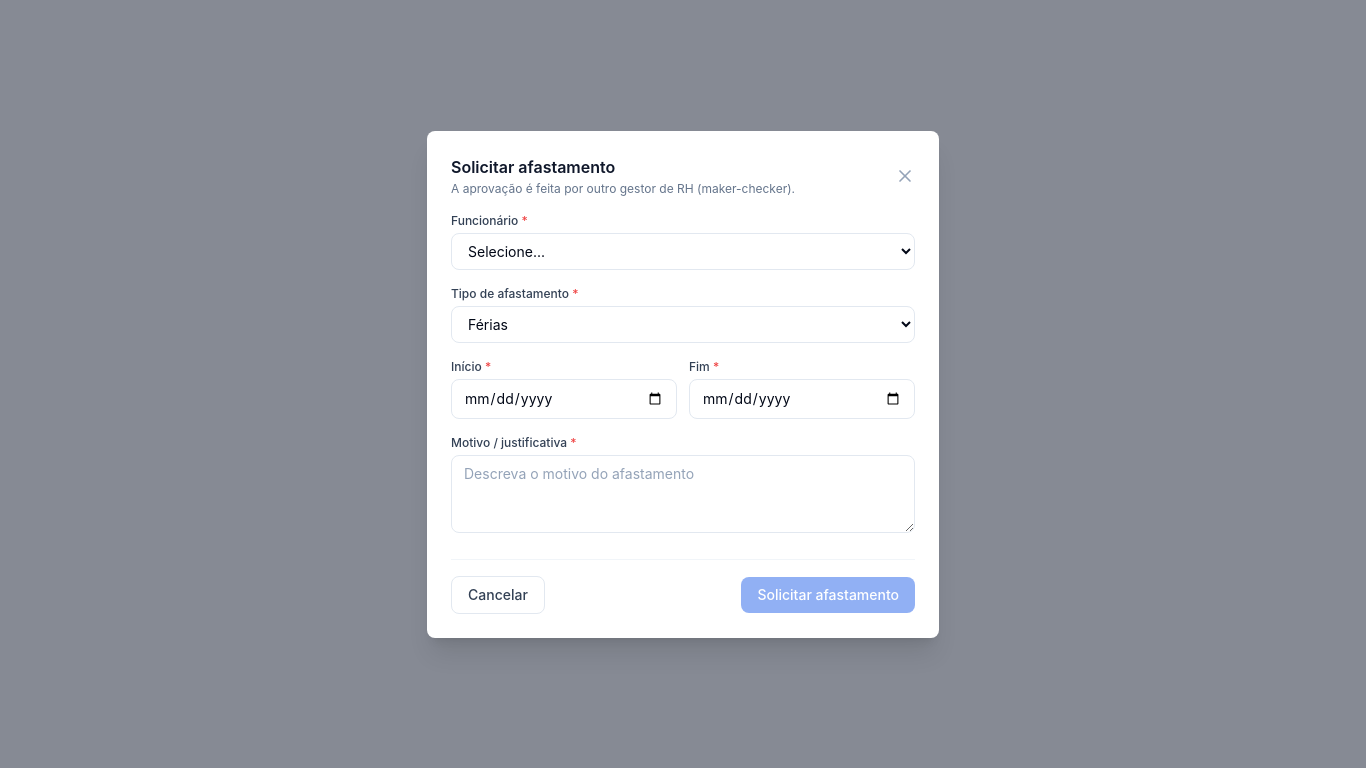
Test: LeaveRequestForm › surfaces a server validation error
The image size is (1366, 768).
Select "Bruno Lima" in the dropdown labelled "Funcionário *". click: [683, 251]
box: [451,232,915,270]
Select "Afastamento médico" in the dropdown labelled "Tipo de afastamento *". click: [683, 324]
box: [451,306,915,342]
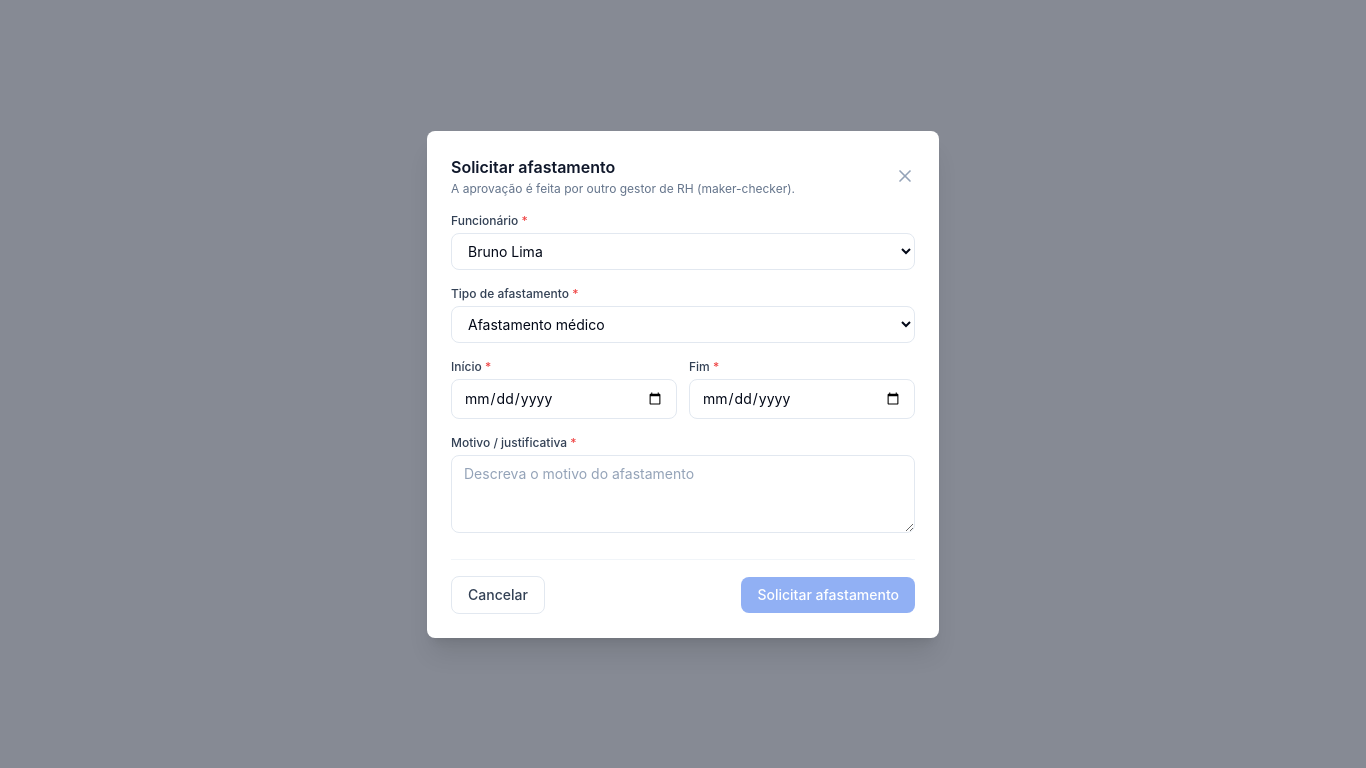
Type "2026-09-01" into the date field labelled "Início *". click: [564, 398]
box: [451,378,677,418]
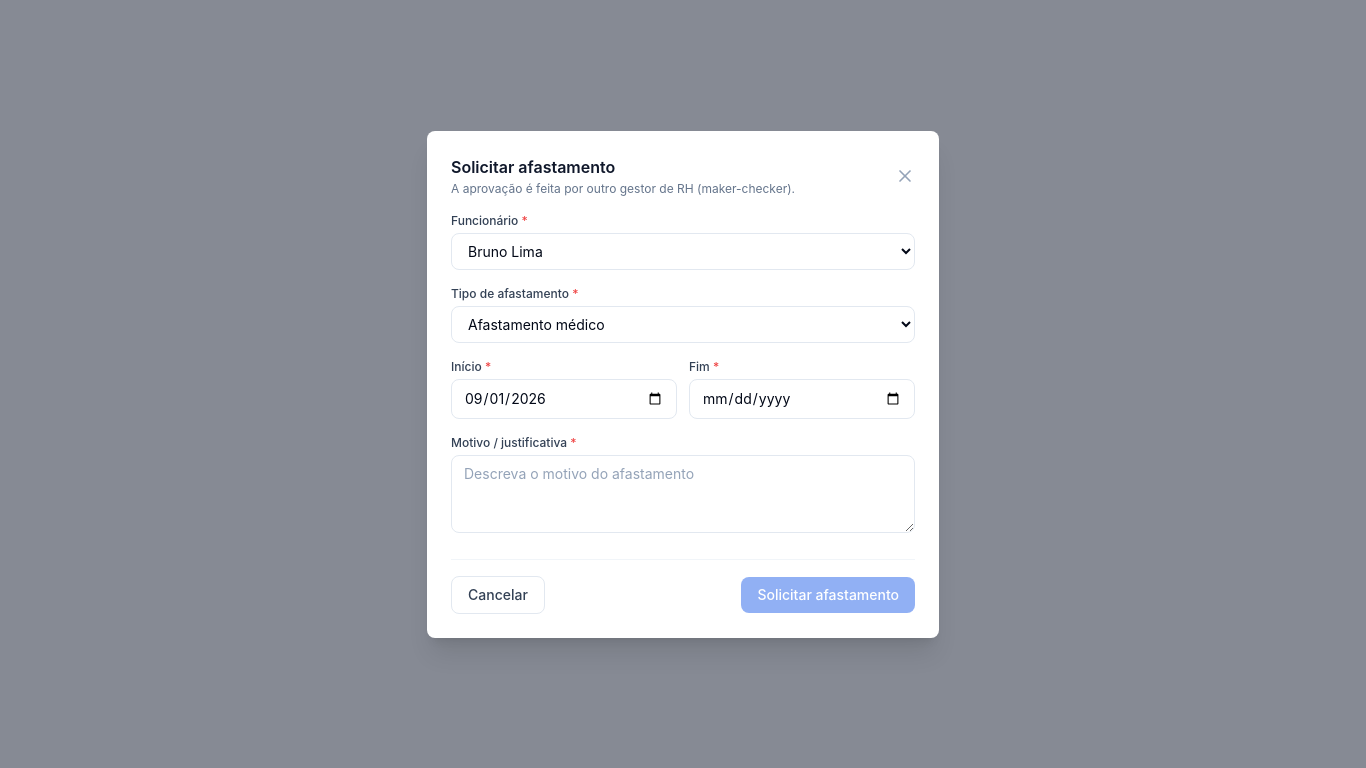
Type "2026-09-05" into the date field labelled "Fim *". click: [802, 398]
box: [689,378,915,418]
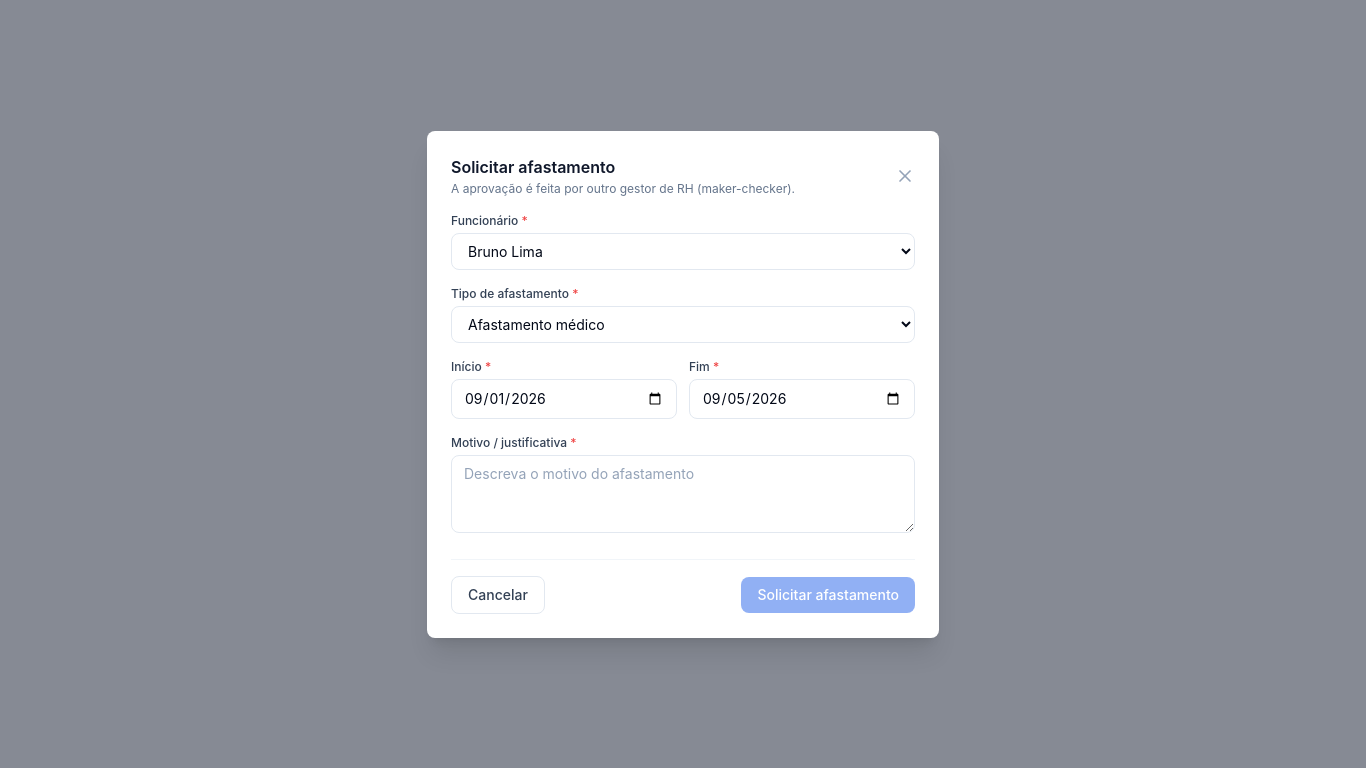
Type "Consulta médica" into the text box labelled "Motivo / justificativa *". click: [683, 494]
box: [451,454,915,532]
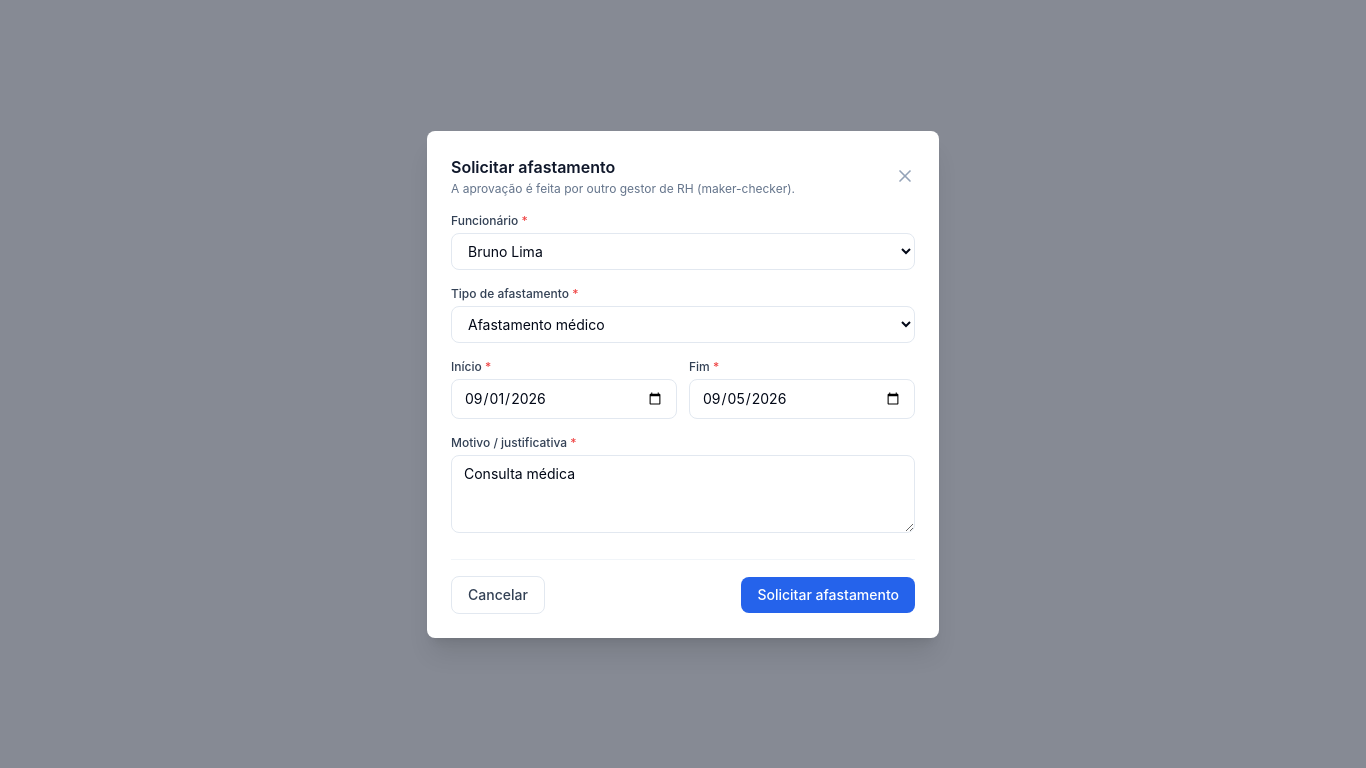
Type "2026-08-01" into the date field labelled "Fim *". click: [802, 398]
box: [689,378,915,418]
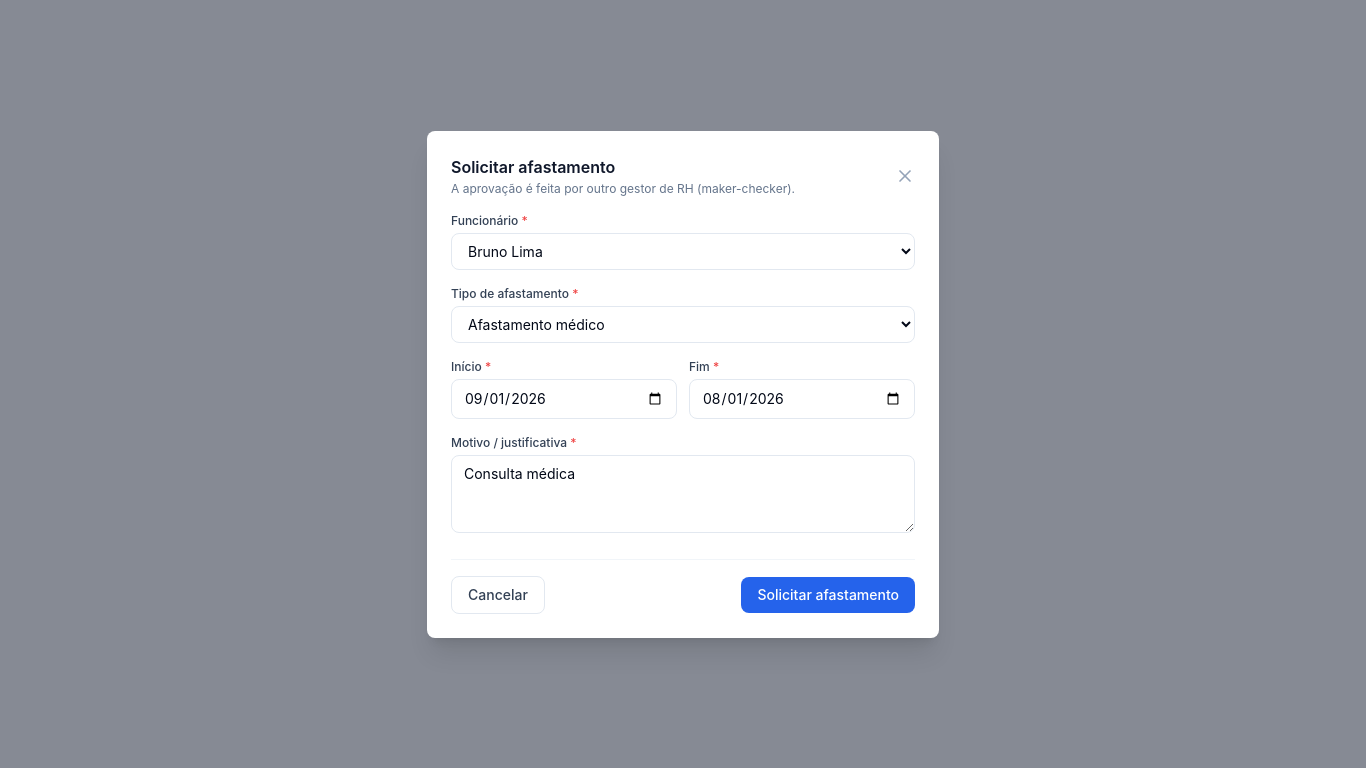
Click the button "Solicitar afastamento". click: [828, 594]
box: [741,576,915,612]
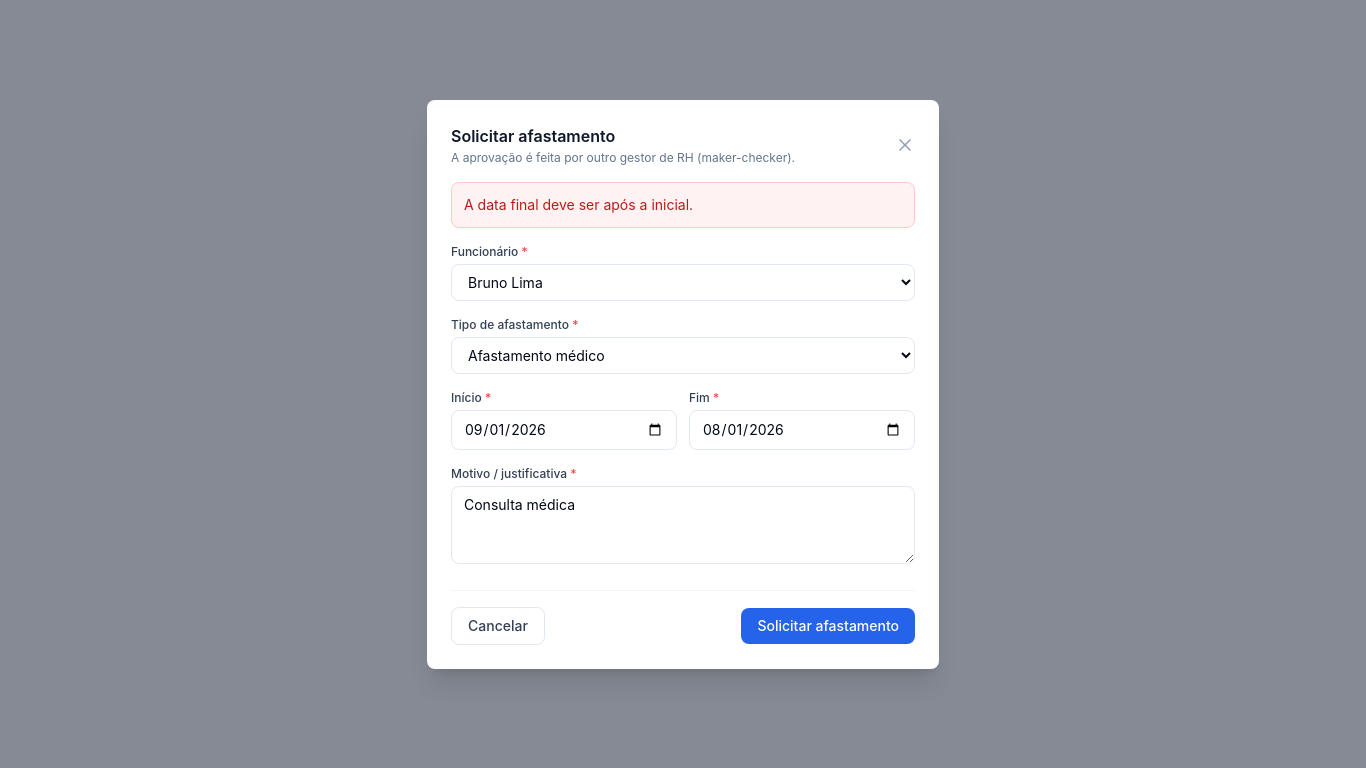
Check: the text "A data final deve ser após a inicial." is shown, box [464,196,693,212]
